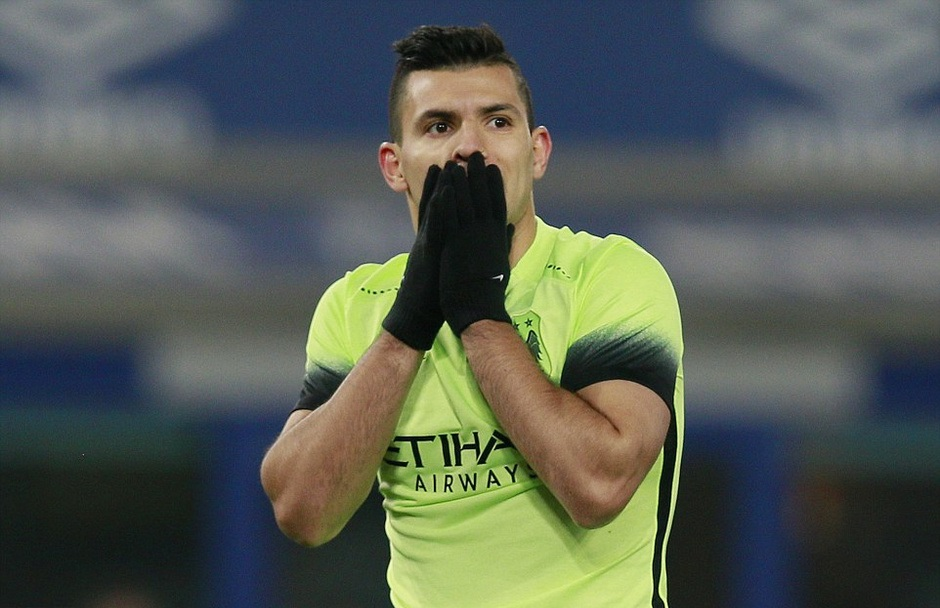face: (403, 61, 532, 235)
